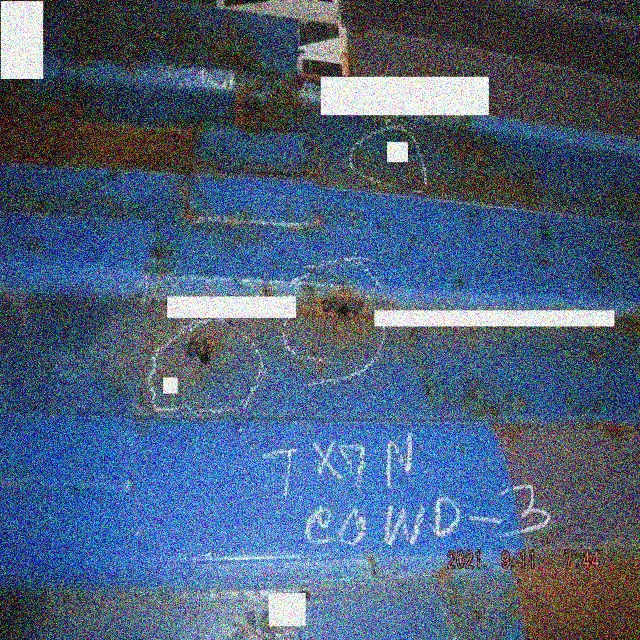Hole: (337, 301, 353, 321), (199, 351, 214, 368)
Rusty: (19, 116, 194, 181), (236, 95, 273, 134), (323, 295, 366, 328), (185, 338, 213, 369)
